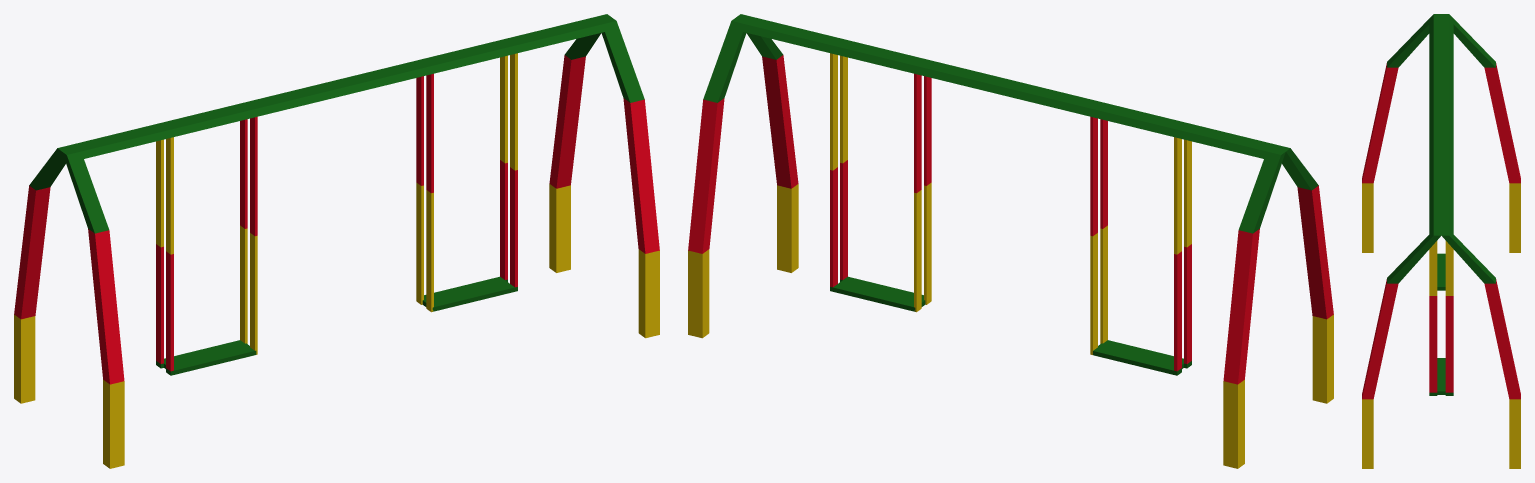
The model's file is cookie_map_Cube_001.fbx.
3 views of the same model, side by side, from view 1: azimuth 30°, elevation 25°; view 2: azimuth 150°, elevation 25°; view 3: azimuth 270°, elevation 25° (orthographic). The views are drawn at different scales.
Visible parts, largest first — view 1: Cube.002; view 2: Cube.002; view 3: Cube.002.
Part boxes in pixels (x1,y1,x2,y2): Cube.002: (14, 14, 659, 468); Cube.002: (688, 14, 1333, 468); Cube.002: (1362, 14, 1520, 468).
Size of the model in its own units: 74.03 by 36.31 by 22.39.
